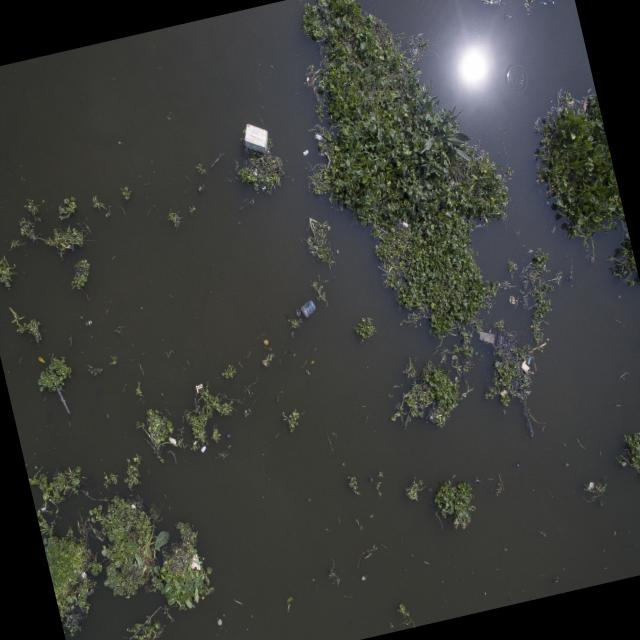Plastic: (236, 113, 276, 160), (476, 326, 498, 346), (300, 300, 320, 318), (520, 355, 530, 374), (296, 306, 302, 316)
